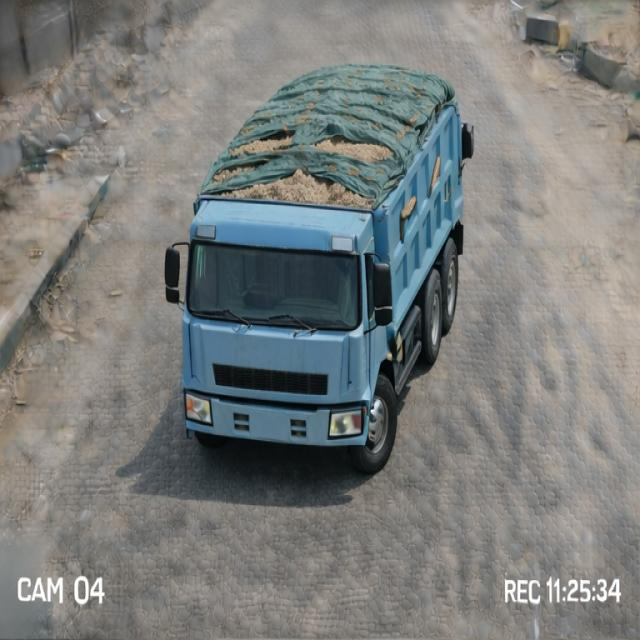trailer: (205, 65, 471, 213)
truck: (163, 36, 497, 470)
